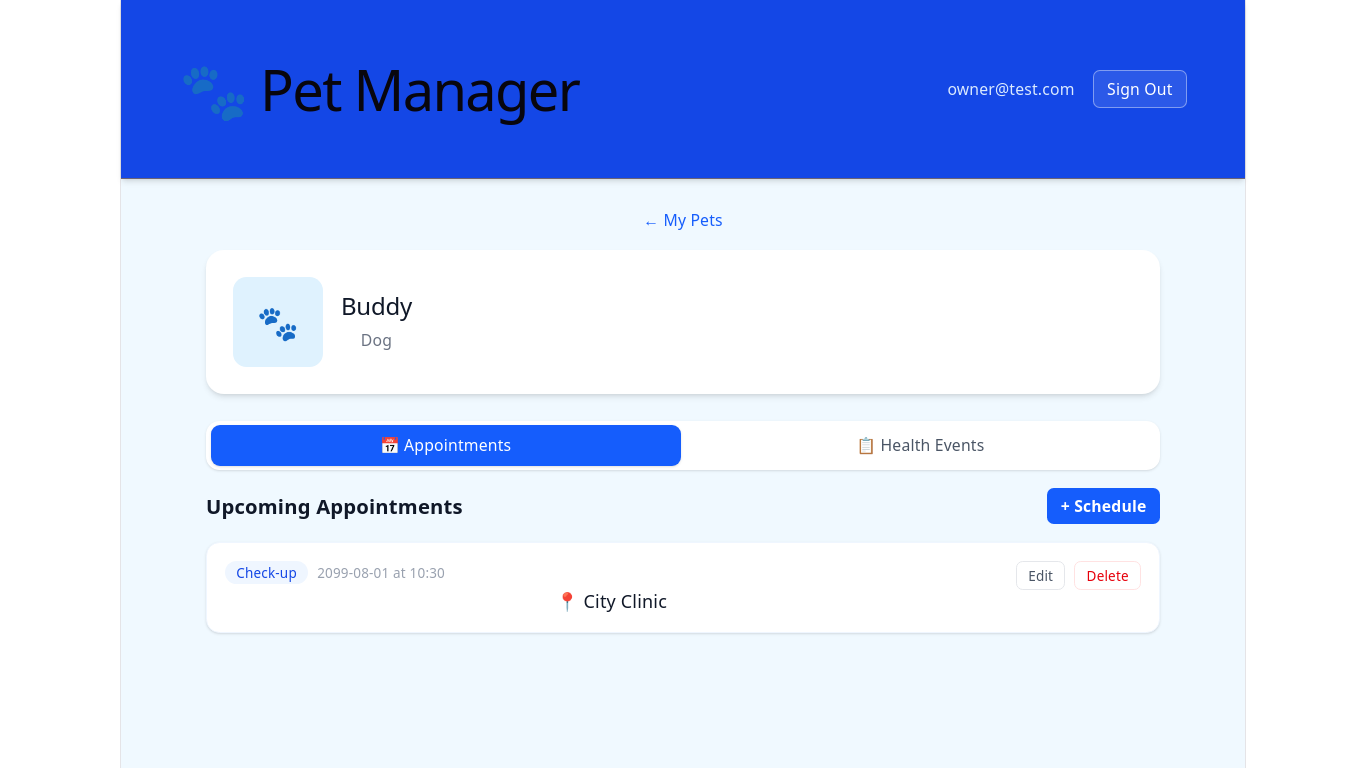
Test case: PetDetailPage › opens delete confirmation modal when clicking Delete on an appointment
The width and height of the screenshot is (1366, 768).
expect the text "📍 City Clinic" is shown: met, box [556,589,667,613]
Click the button with aria-label "delete appointment" at (1108, 576), box [1074,561,1141,590]
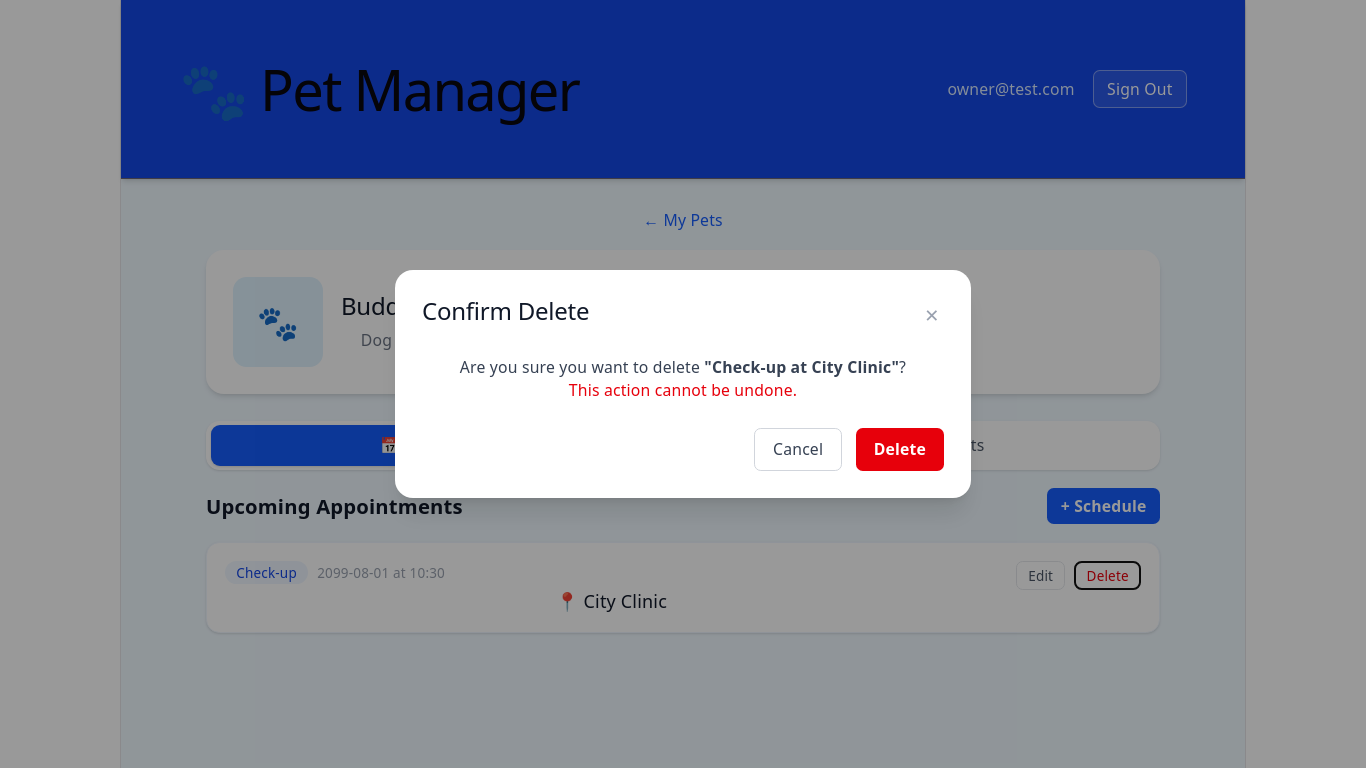
expect the heading "Confirm Delete" is shown: met, box [422,297,589,326]
expect the text "This action cannot be undone." is shown: met, box [569,379,797,401]
